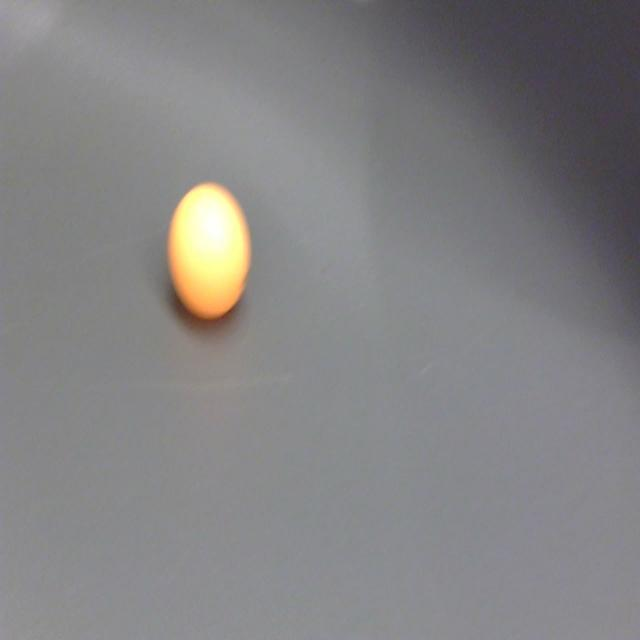ball: (167, 174, 254, 327)
